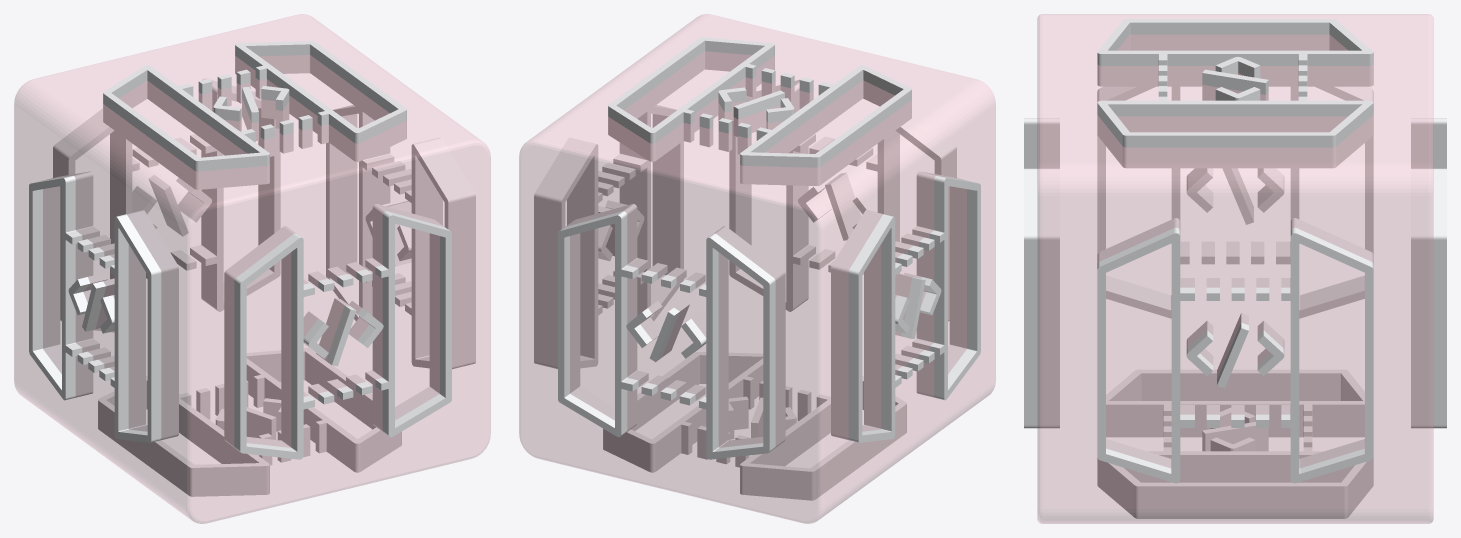
Rendered from api-gateway.glb.
The picture shows the model from 3 angles, left to right: view 1: azimuth 30°, elevation 25°; view 2: azimuth 150°, elevation 25°; view 3: azimuth 270°, elevation 25°; orthographic projection. The views are drawn at different scales.
Visible parts, largest first — view 1: Glass, Glyph Left, Glyph Front, Glyph Top, Glyph Right, Glyph Bottom, Glyph Back; view 2: Glass, Glyph Left, Glyph Back, Glyph Top, Glyph Right, Glyph Bottom, Glyph Front; view 3: Glass, Glyph Top, Glyph Bottom, Glyph Right, Glyph Left, Glyph Front, Glyph Back.
Part boxes in pixels (<box>): Glass: <box>14,14,490,523</box>; Glyph Left: <box>29,171,178,442</box>; Glyph Front: <box>224,204,451,459</box>; Glyph Top: <box>103,41,406,189</box>; Glyph Right: <box>326,105,475,368</box>; Glyph Bottom: <box>98,348,401,496</box>; Glyph Back: <box>53,78,280,332</box>; Glass: <box>519,14,995,523</box>; Glyph Left: <box>831,171,980,442</box>; Glyph Back: <box>558,204,785,459</box>; Glyph Top: <box>608,37,911,185</box>; Glyph Right: <box>534,105,683,368</box>; Glyph Bottom: <box>603,352,906,500</box>; Glyph Front: <box>729,79,956,321</box>; Glass: <box>1037,14,1433,523</box>; Glyph Top: <box>1097,19,1373,168</box>; Glyph Bottom: <box>1097,369,1373,518</box>; Glyph Right: <box>1097,218,1373,483</box>; Glyph Left: <box>1097,86,1373,318</box>; Glyph Front: <box>1024,118,1059,428</box>; Glyph Back: <box>1411,118,1446,428</box>.
Bounding box in the file's own units: 2.13 × 2.13 × 2.13.
